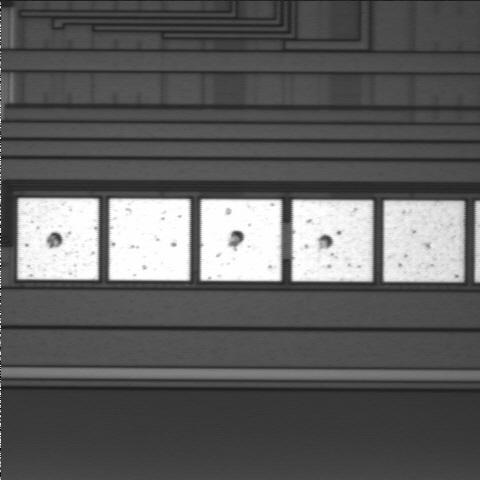pad: (200, 199, 282, 281), (18, 198, 99, 280), (109, 199, 190, 281), (292, 200, 373, 281), (384, 201, 464, 282)
